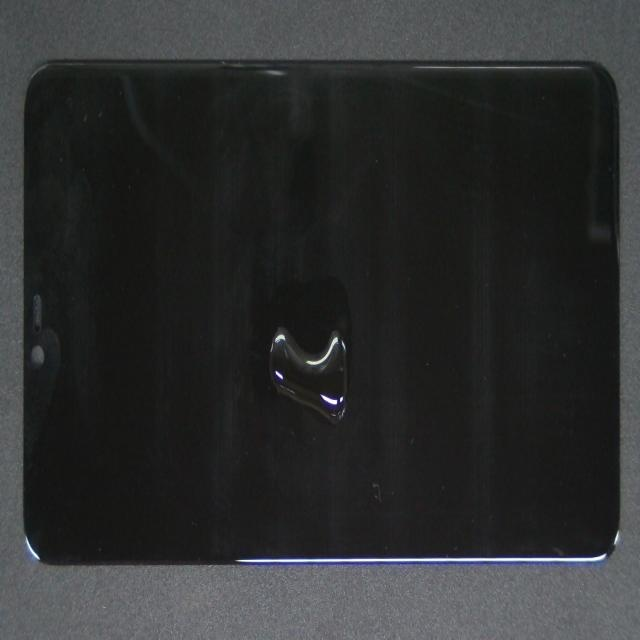oil: (103, 160, 437, 583)
